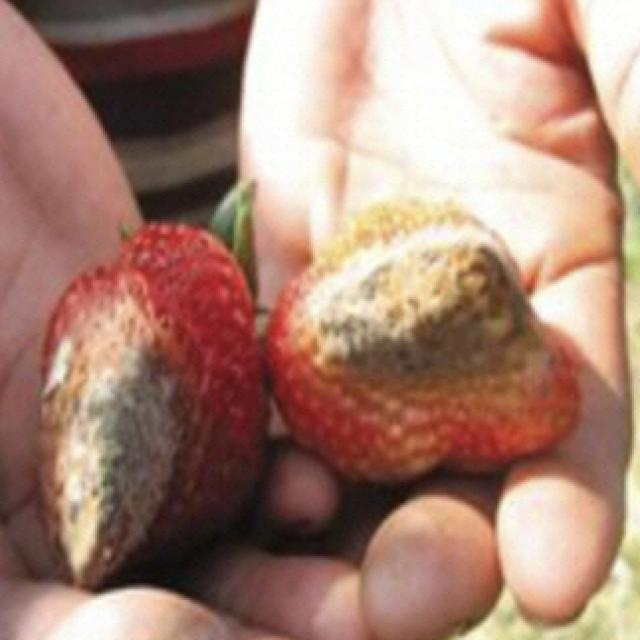Gray Mold: (261, 194, 586, 482), (37, 231, 253, 598)
